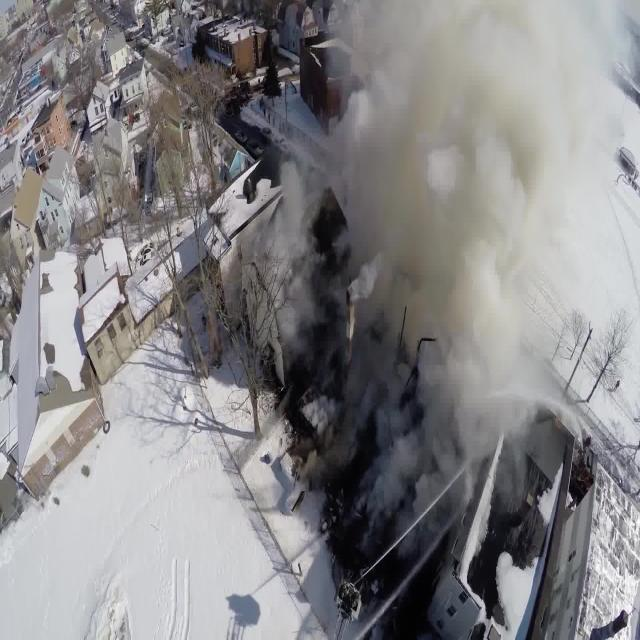Smoke: (369, 12, 602, 349)
